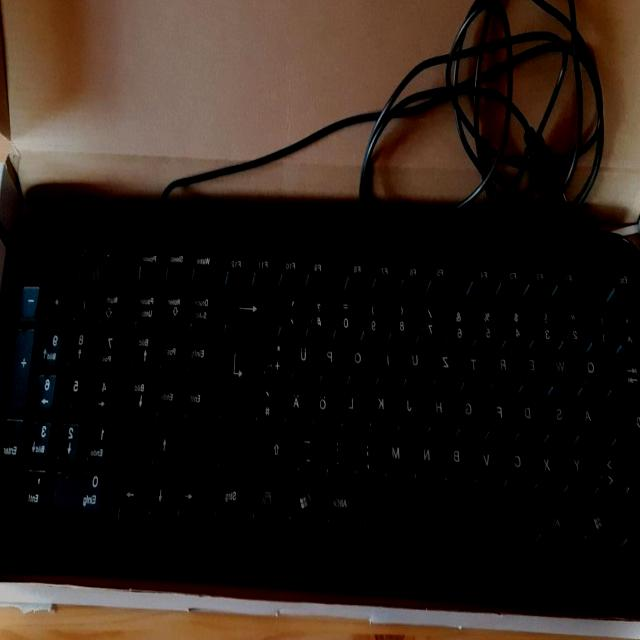0: (337, 297, 357, 335)
1: (590, 308, 612, 348)
2: (562, 307, 584, 343)
3: (534, 306, 556, 347)
4: (505, 302, 529, 344)
5: (477, 303, 501, 345)
6: (447, 298, 471, 344)
7: (421, 299, 441, 340)
8: (390, 297, 413, 341)
9: (363, 298, 385, 336)
a: (576, 401, 598, 439)
accent: (278, 294, 302, 332)
ae: (287, 384, 307, 426)
alt-left: (538, 499, 579, 543)
altgr-right: (328, 483, 359, 530)
b: (447, 441, 469, 483)
c: (506, 444, 530, 485)
caret: (619, 309, 640, 347)
comma: (354, 434, 378, 475)
d: (518, 400, 544, 436)
del: (227, 291, 275, 332)
e: (522, 352, 546, 389)
enter: (222, 336, 259, 425)
f: (489, 397, 511, 435)
g: (460, 395, 481, 433)
h: (431, 394, 452, 429)
hash: (258, 382, 278, 423)
i: (376, 345, 399, 382)
j: (400, 391, 421, 429)
k: (372, 388, 392, 428)
keyboard: (0, 220, 640, 614)
l: (343, 388, 363, 428)
less: (597, 451, 621, 491)
m: (385, 437, 407, 477)
minus: (296, 430, 320, 474)
n: (416, 439, 439, 479)
o: (347, 343, 370, 380)
oe: (315, 385, 335, 425)
p: (320, 341, 342, 381)
plus: (265, 337, 287, 378)
point: (326, 433, 349, 476)
q: (581, 354, 603, 390)
r: (493, 351, 515, 389)
s: (550, 399, 571, 439)
shift-left: (625, 453, 640, 491)
shift-lock: (610, 402, 640, 443)
shift-right: (221, 430, 291, 470)
space: (365, 489, 535, 545)
ss: (309, 296, 329, 333)
strg-left: (624, 504, 640, 553)
strg-right: (215, 477, 247, 523)
t: (465, 351, 485, 386)
tab: (608, 357, 640, 395)
u: (405, 348, 427, 384)
ue: (291, 338, 315, 378)
v: (477, 443, 500, 484)
w: (552, 353, 578, 390)
x: (537, 449, 562, 489)
y: (565, 450, 588, 490)
z: (433, 347, 457, 385)
